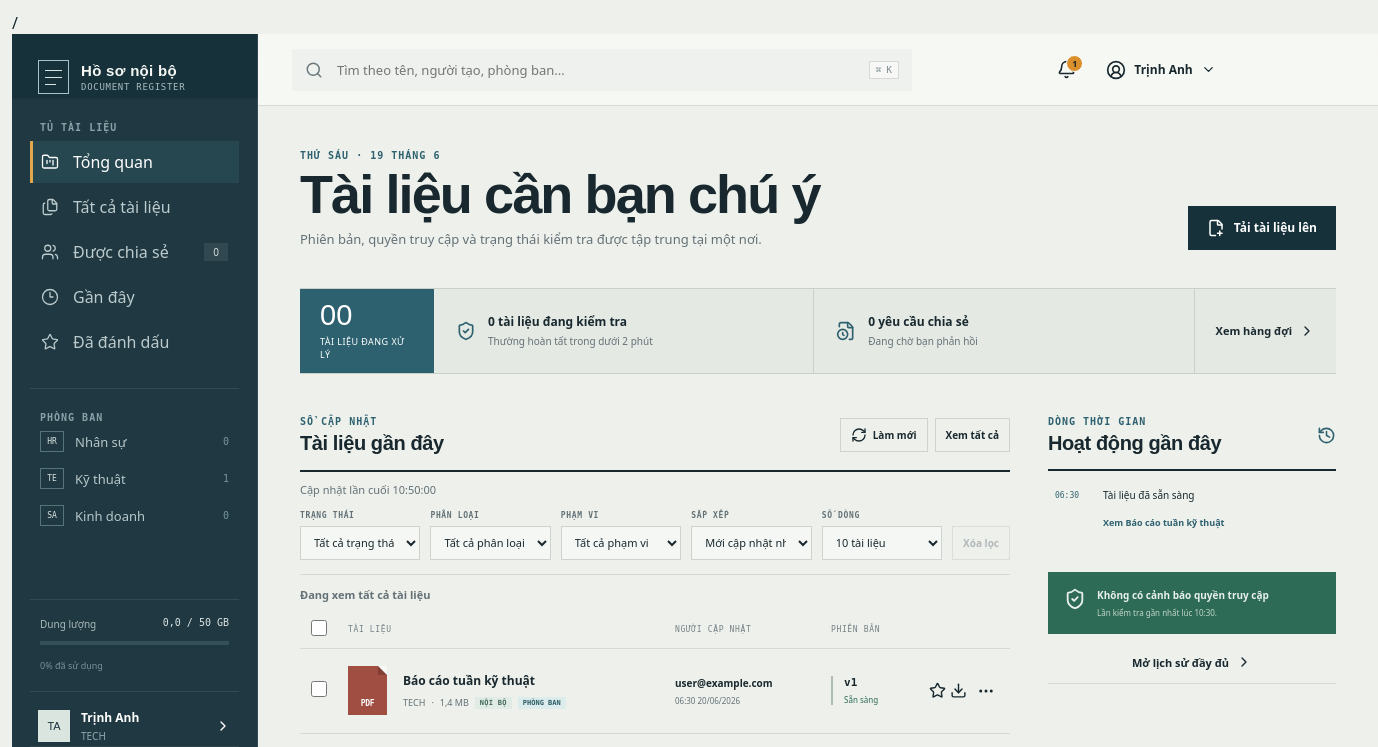
Test: App › hiển thị trạng thái rỗng theo phòng ban được chọn
Expected: the button "Báo cáo tuần kỹ thuật" is shown, left=403, top=672, right=535, bottom=689
Click the button "HR Nhân sự 0": click(134, 442) left=30, top=423, right=239, bottom=460
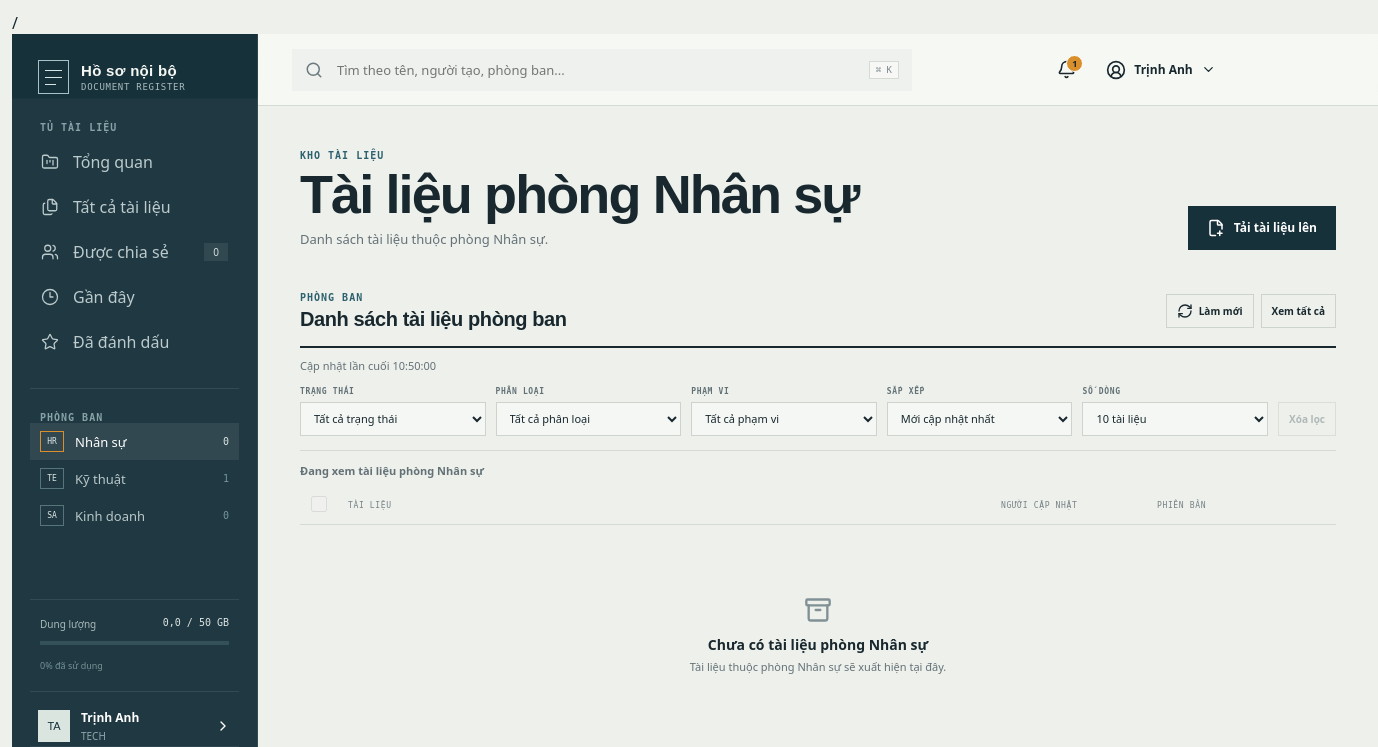
Expected: the heading "Chưa có tài liệu phòng Nhân sự" is shown, left=708, top=635, right=928, bottom=654
Expected: the text "Tài liệu thuộc phòng Nhân sự sẽ xuất hiện tại đây." is shown, left=690, top=659, right=946, bottom=674
